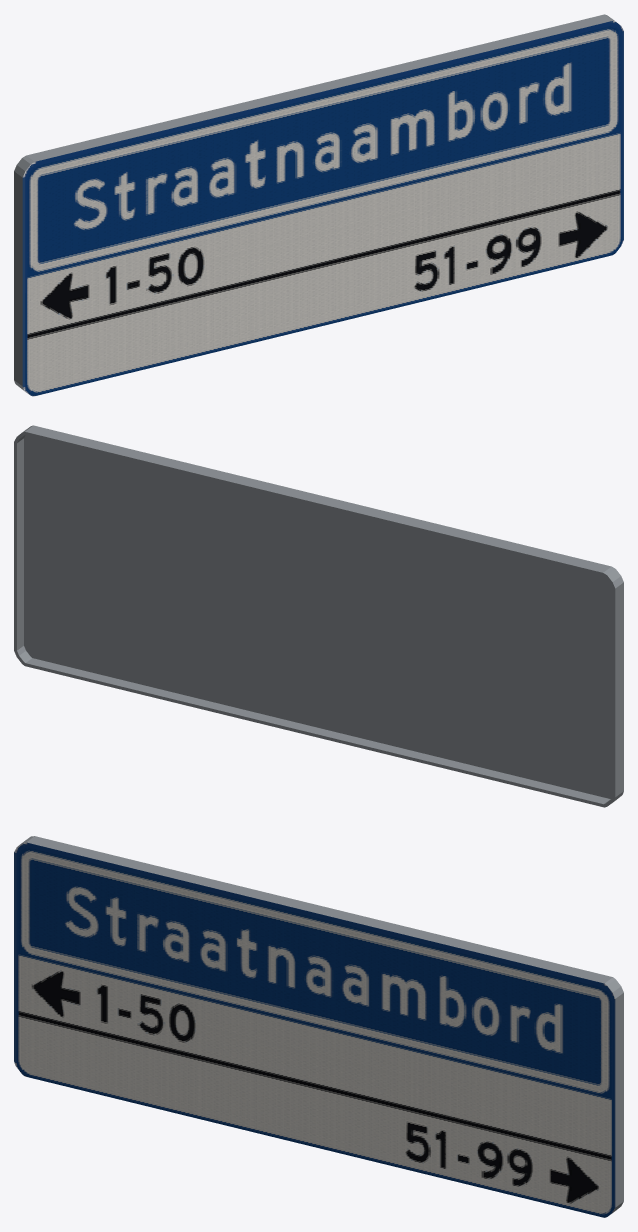
The picture shows the model from 3 angles, top to bottom: view 1: azimuth 30°, elevation 25°; view 2: azimuth 150°, elevation 25°; view 3: azimuth 330°, elevation 25°; orthographic projection.
Visible parts, largest first — view 1: cat_fc69ae6333d901b8; view 2: cat_fc69ae6333d901b8; view 3: cat_fc69ae6333d901b8.
Boxes of the visible parts, x1,y1,x2,y2 form: cat_fc69ae6333d901b8: [14, 14, 623, 396]; cat_fc69ae6333d901b8: [14, 425, 623, 807]; cat_fc69ae6333d901b8: [14, 836, 623, 1217].
Size of the model in its own units: 0.6 by 0.015 by 0.2235.
Materials: 2 (1 with a texture image).
